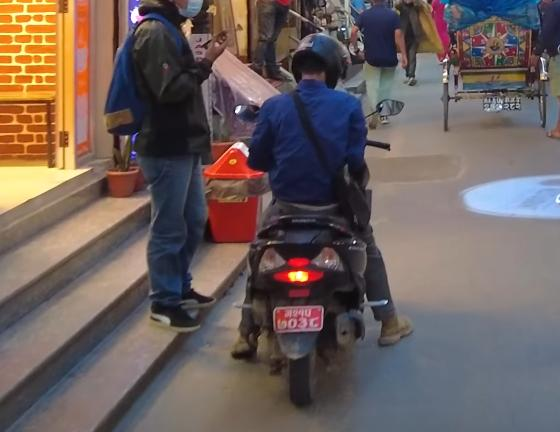scooter: (234, 136, 396, 405)
